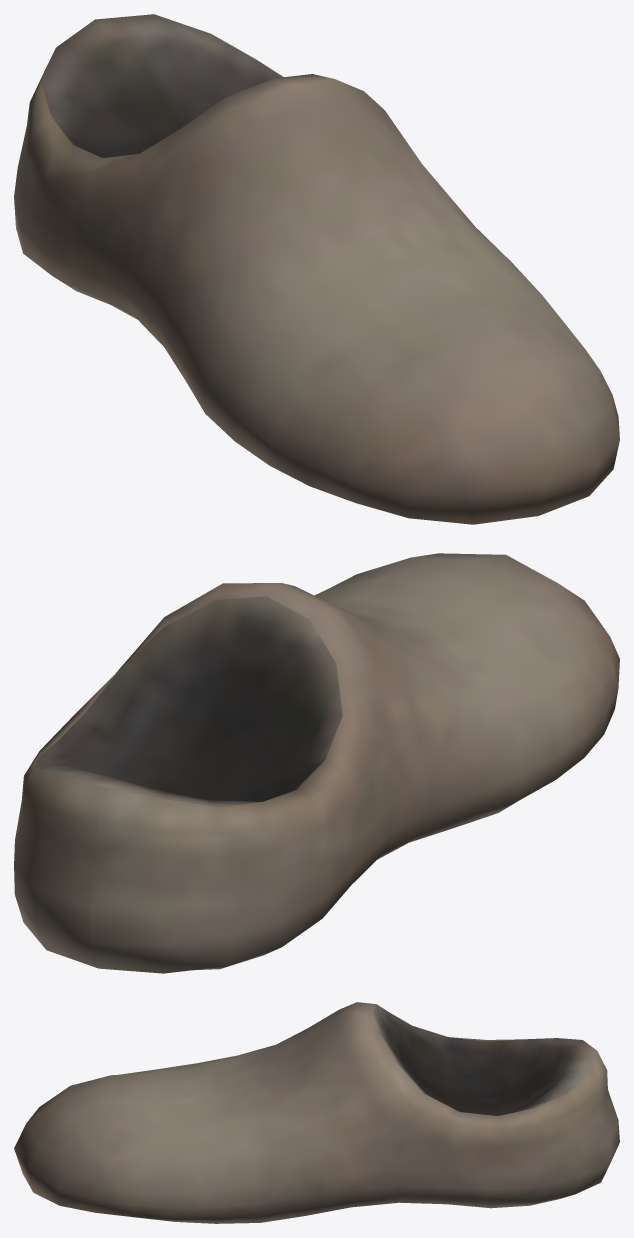
Rendered from Foot.fbx.
The picture shows the model from 3 angles, top to bottom: view 1: azimuth 30°, elevation 25°; view 2: azimuth 150°, elevation 25°; view 3: azimuth 270°, elevation 25°; orthographic projection. The views are drawn at different scales.
Parts seen in each view (by area): view 1: Foot; view 2: Foot; view 3: Foot.
Boxes of the visible parts, x1=… form: Foot: x1=14, y1=14, x2=619, y2=524; Foot: x1=14, y1=553, x2=619, y2=973; Foot: x1=14, y1=1002, x2=619, y2=1223.
Size of the model in its own units: 24.59 by 17.82 by 58.79.
